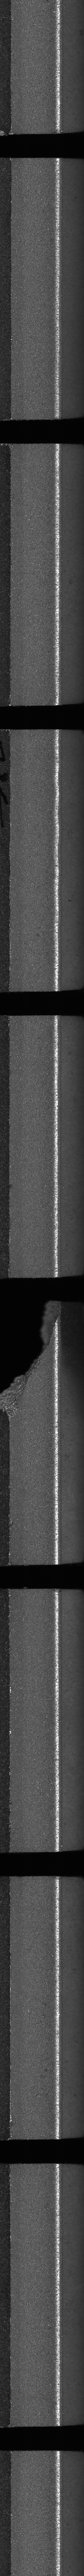Chip: (0, 1297, 64, 1426)
